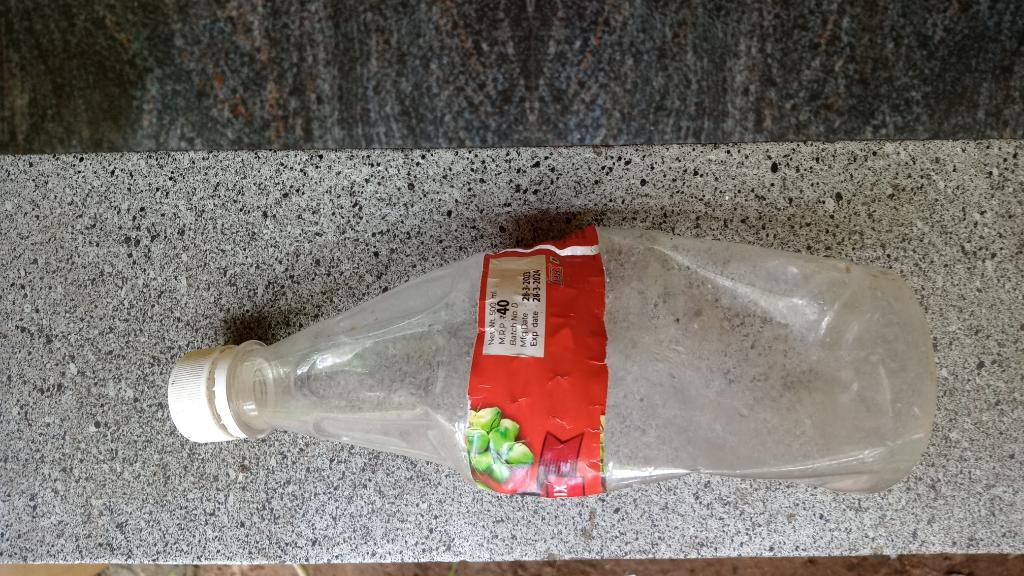garbage: (124, 191, 983, 530)
